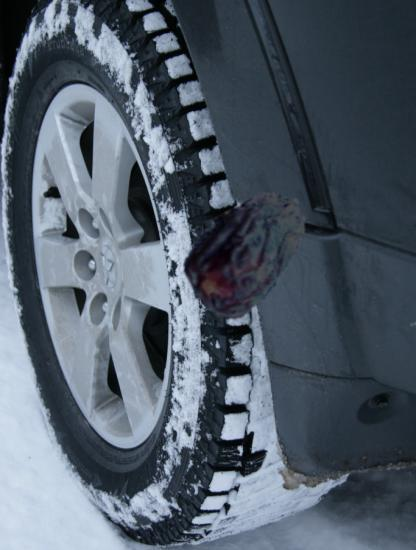Dates: (181, 187, 321, 327)
